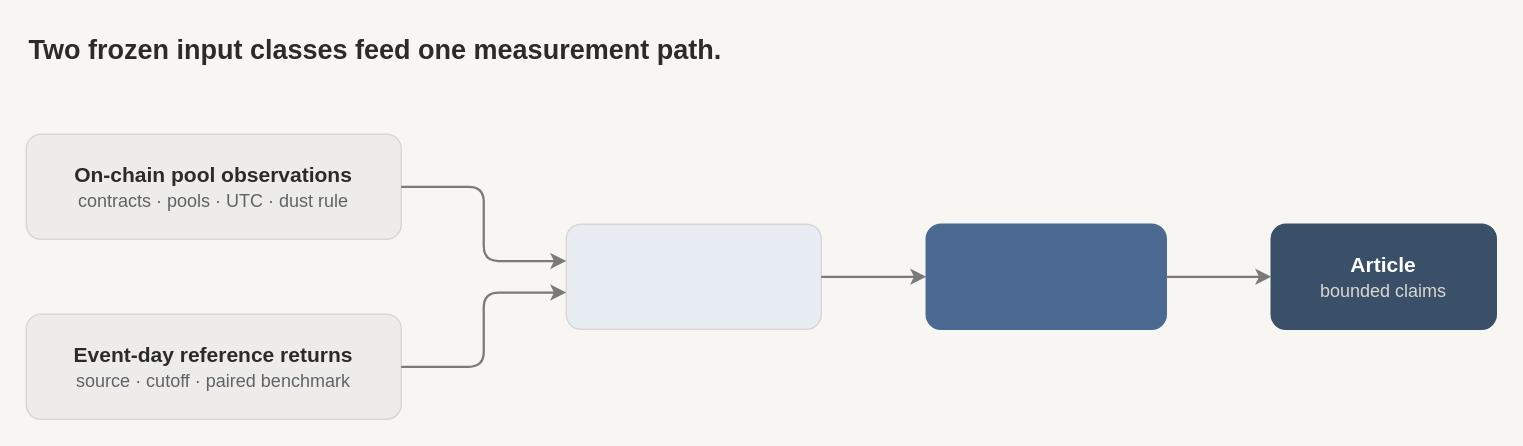
The diagram is 1523 pixels wide and 446 high, and some of its shapes have lost their labels. The centre of each missing label's shape, as x and y in pixels:
"Claim gate regression checks" goes at pixel 1045 276.
"Engine JSON typed measurements" goes at pixel 693 276.
